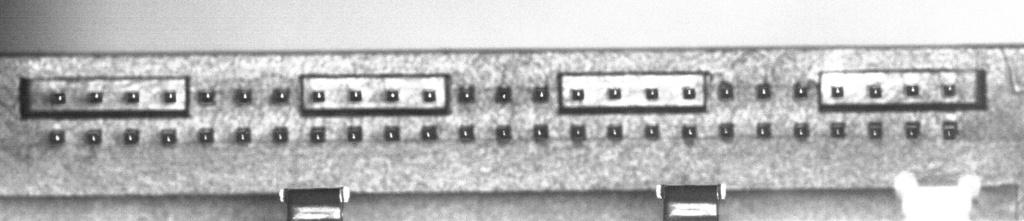pin_ok: (941, 121, 959, 140), (867, 120, 884, 139), (457, 85, 475, 102), (904, 121, 921, 139), (532, 84, 549, 102), (793, 82, 811, 99), (270, 87, 289, 103), (234, 87, 253, 103), (495, 85, 512, 102), (718, 81, 734, 99), (196, 89, 215, 104), (532, 124, 549, 140), (197, 127, 214, 143), (309, 126, 326, 142), (458, 125, 475, 141), (793, 123, 810, 139), (755, 83, 772, 99), (495, 125, 512, 141), (346, 125, 362, 141), (607, 123, 623, 139), (272, 126, 288, 142), (384, 125, 400, 141), (235, 127, 251, 143), (123, 128, 139, 144), (160, 129, 176, 145), (830, 122, 846, 138), (421, 125, 438, 140), (570, 124, 586, 139), (644, 123, 659, 139), (756, 123, 772, 138), (719, 123, 734, 139), (85, 130, 101, 145), (49, 129, 65, 144), (682, 124, 697, 139), (941, 83, 957, 97), (162, 90, 178, 104), (50, 90, 65, 104), (868, 83, 882, 98), (904, 83, 920, 96), (570, 88, 585, 101), (644, 87, 659, 100), (87, 90, 102, 103), (124, 90, 139, 103), (422, 89, 437, 102), (349, 88, 363, 101), (311, 89, 325, 102), (385, 89, 399, 102), (682, 86, 696, 99), (830, 85, 844, 98), (607, 87, 621, 99)
